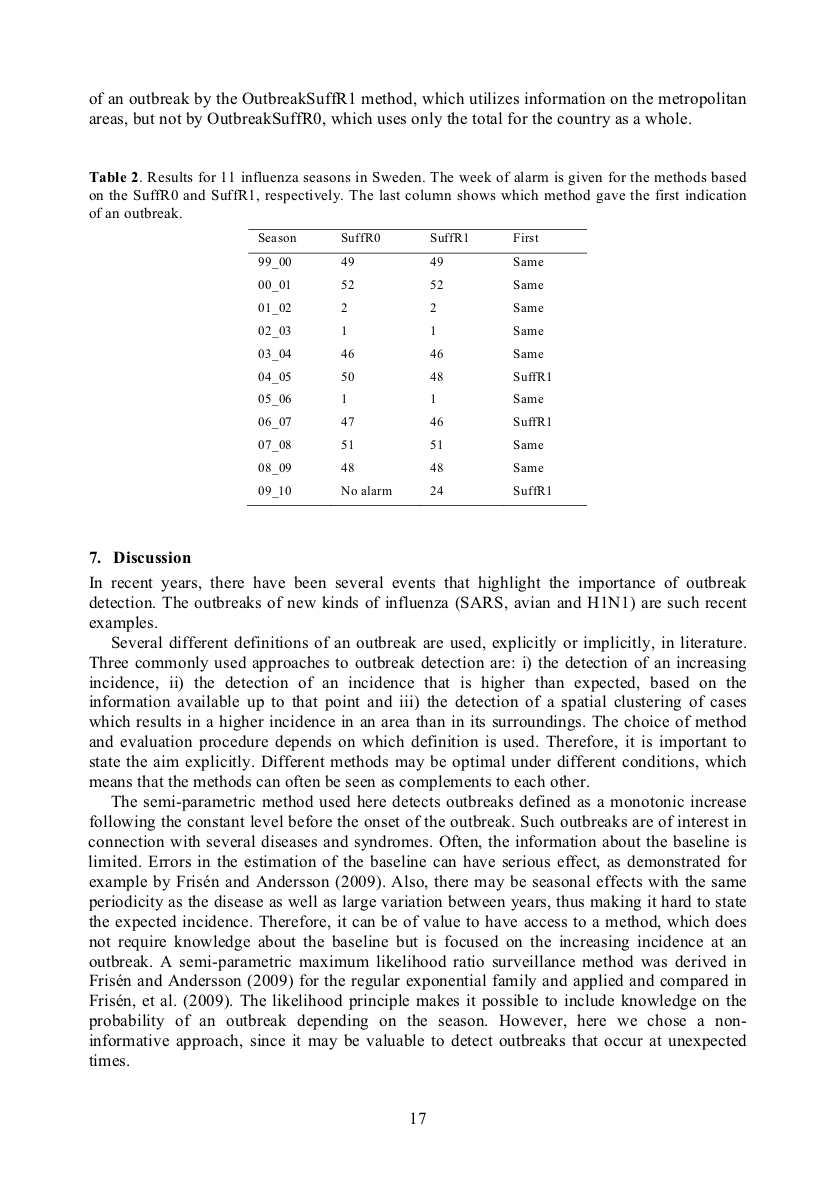Table: (247, 229, 586, 505)
